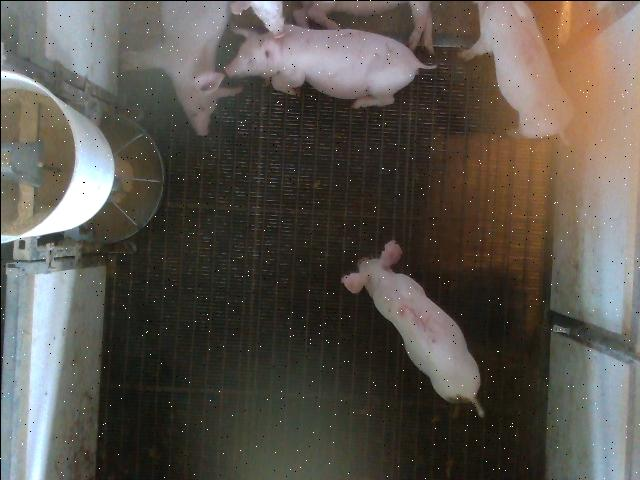pig-4: (461, 1, 572, 142)
pig-5: (341, 241, 482, 416)
